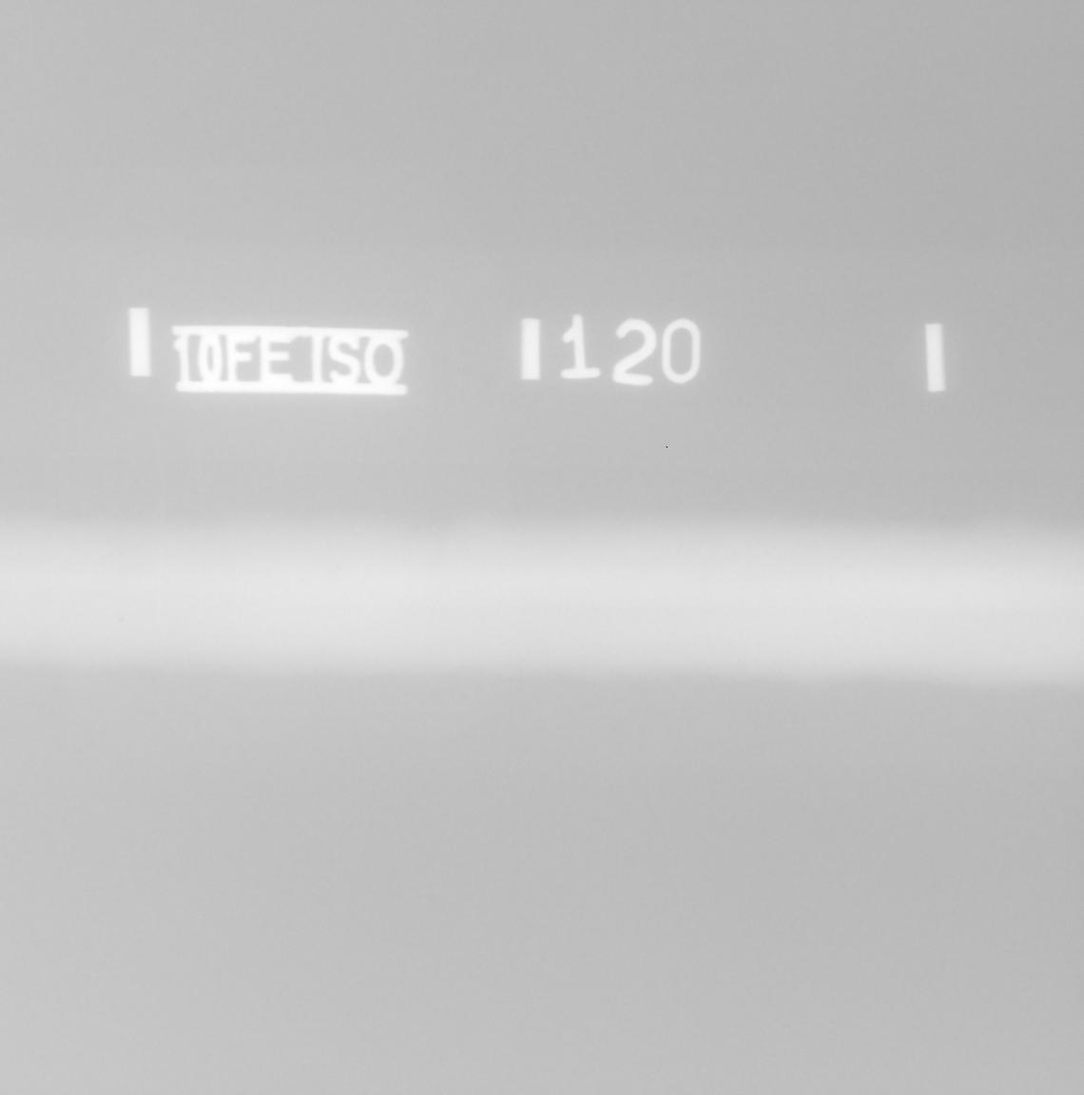Pore/Porosity: (762, 550, 768, 555), (334, 565, 339, 571), (119, 617, 123, 622), (592, 607, 598, 610)
